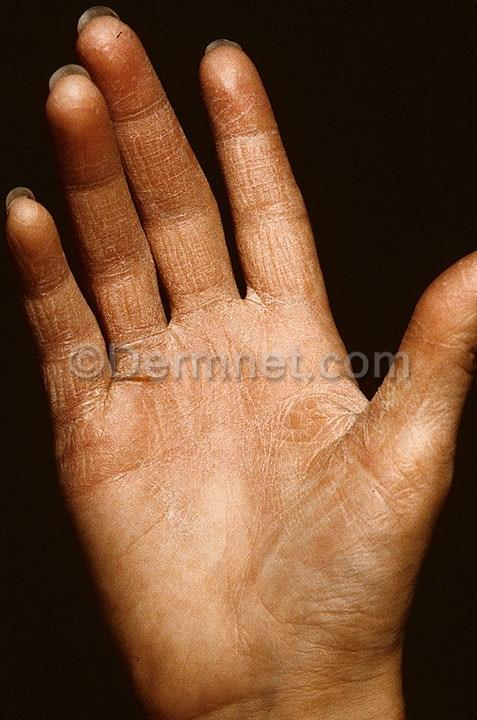Eczema: (80, 391, 224, 518), (231, 343, 367, 472), (208, 471, 323, 598), (87, 227, 163, 318), (185, 263, 255, 361), (137, 149, 200, 233), (397, 357, 448, 435), (37, 308, 95, 375), (110, 61, 160, 124), (253, 184, 298, 251), (221, 79, 269, 135), (63, 112, 105, 165)
